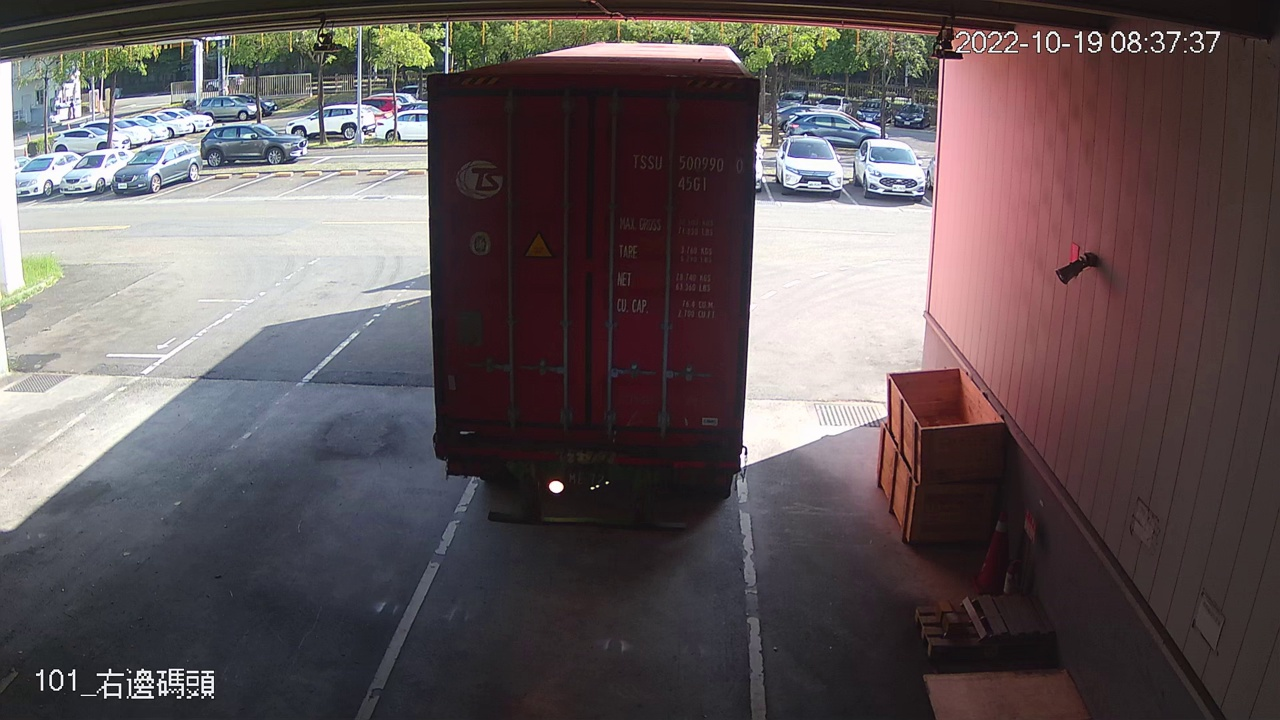container: (627, 149, 749, 196)
